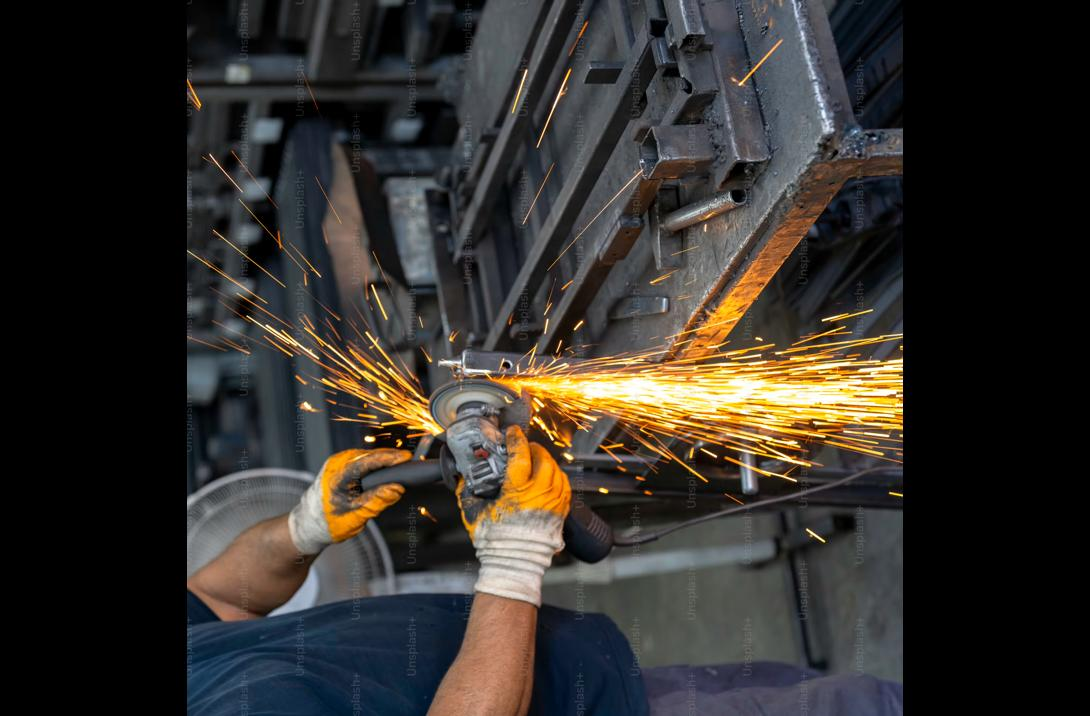controlled_fire: (324, 270, 896, 497)
